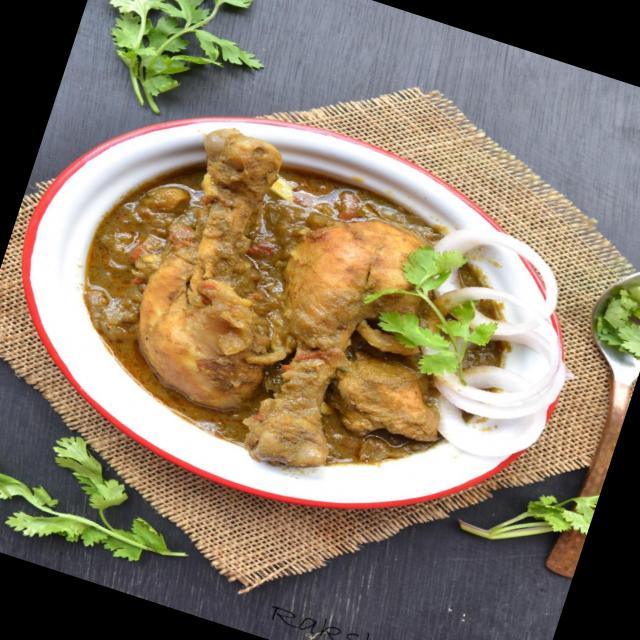chicken: (16, 85, 542, 508)
